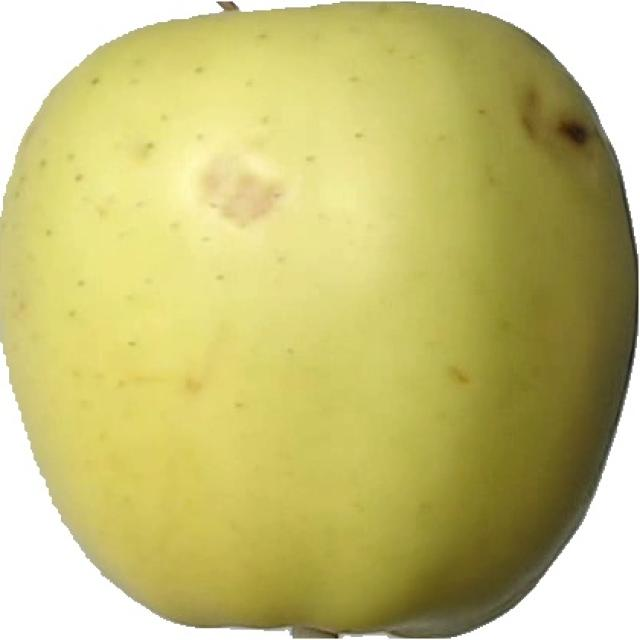Golden Elma: (1, 5, 640, 613)
